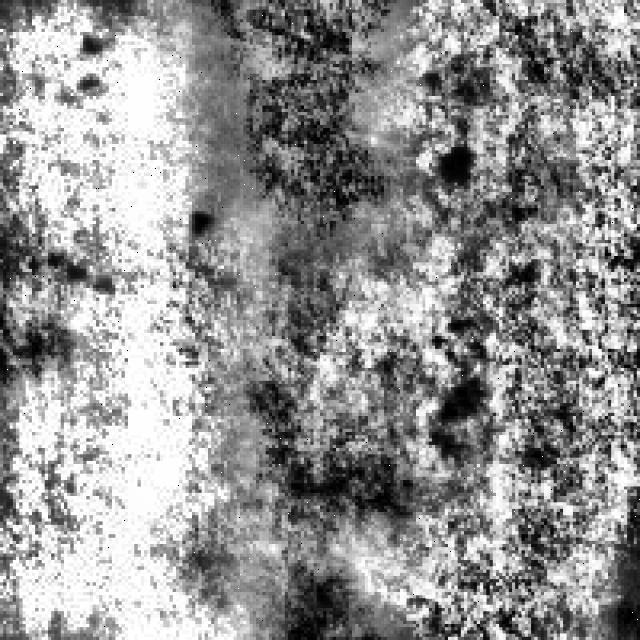Scratches: (214, 0, 410, 243), (234, 384, 428, 534), (247, 540, 391, 630)
